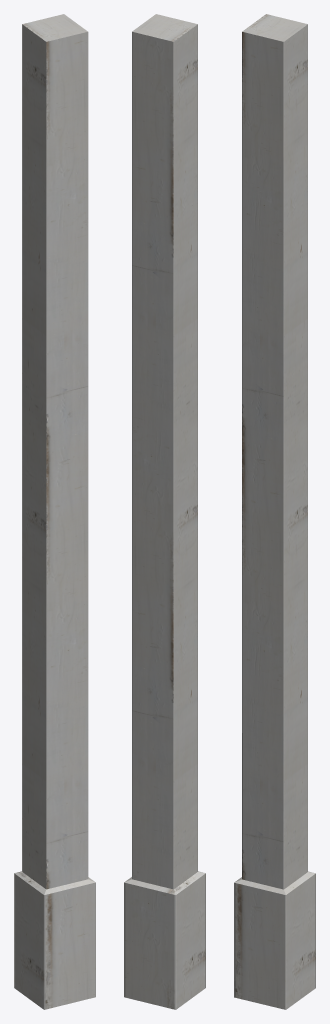
Rendered from Porch_Pilar.FBX.
3 views of the same model, side by side, from view 1: azimuth 30°, elevation 25°; view 2: azimuth 150°, elevation 25°; view 3: azimuth 330°, elevation 25° (orthographic).
Visible parts, largest first — view 1: Porch_Pilar; view 2: Porch_Pilar; view 3: Porch_Pilar.
Part boxes in pixels (<box>): Porch_Pilar: <box>14,14,95,1009</box>; Porch_Pilar: <box>124,14,205,1009</box>; Porch_Pilar: <box>234,14,315,1009</box>.
Bounding box in the file's own units: 16.14 × 286 × 16.16.
